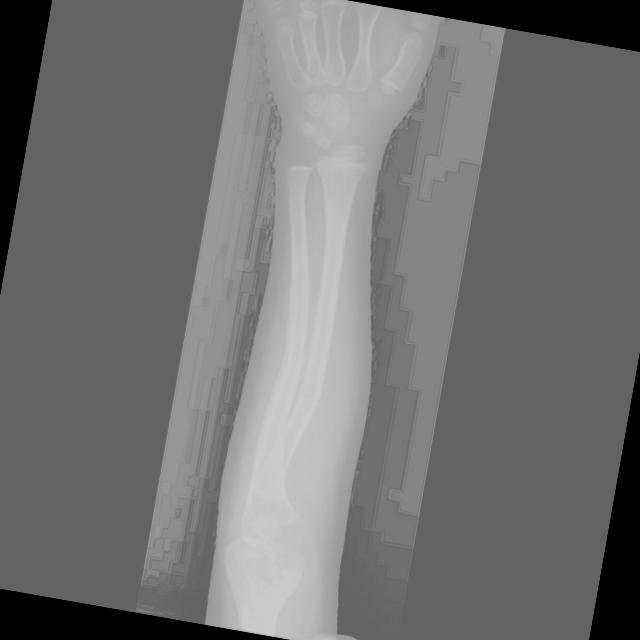GreenStick Fracture: (272, 326, 312, 373)
